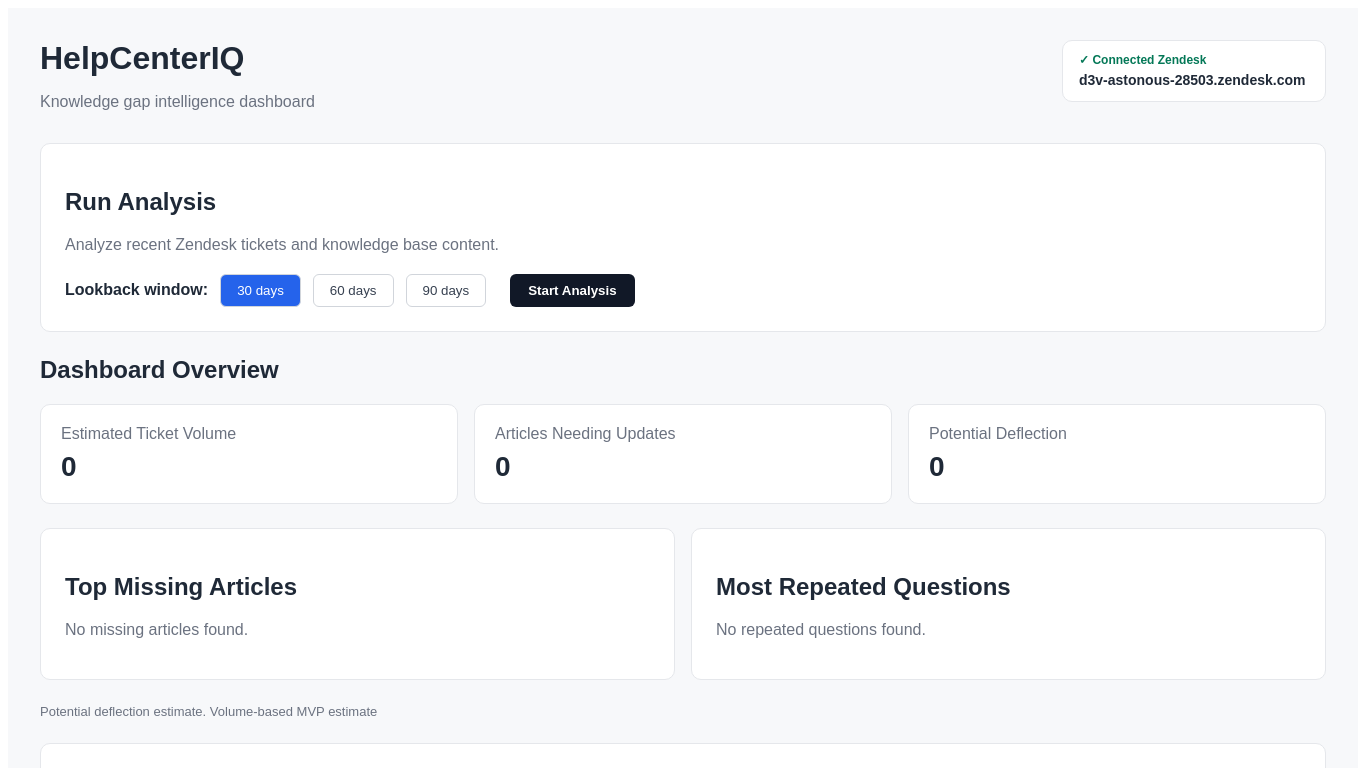
Test case: DashboardPage › starts a 30-day analysis run and displays its queued status
This screenshot has width=1366, height=768.
Expected: the heading "Dashboard Overview" is shown, top-left (40, 356), bottom-right (279, 383)
Click the button "Start Analysis": [572, 290] box top-left (510, 274), bottom-right (635, 307)
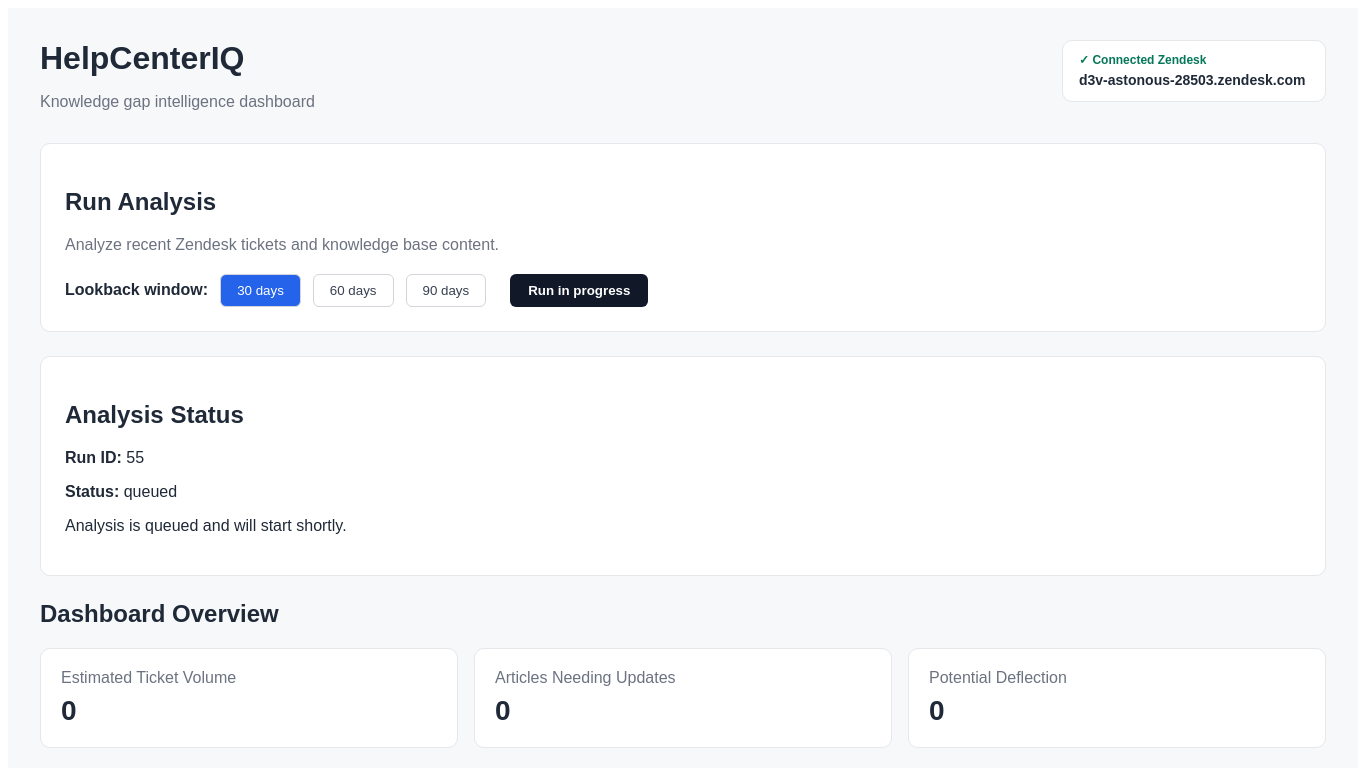
Expected: the heading "Analysis Status" is shown, top-left (65, 401), bottom-right (244, 428)
Expected: the text "Analysis is queued and will start shortly." is shown, top-left (65, 517), bottom-right (347, 534)
Expected: the button "Run in progress" is disabled, top-left (510, 274), bottom-right (648, 307)
